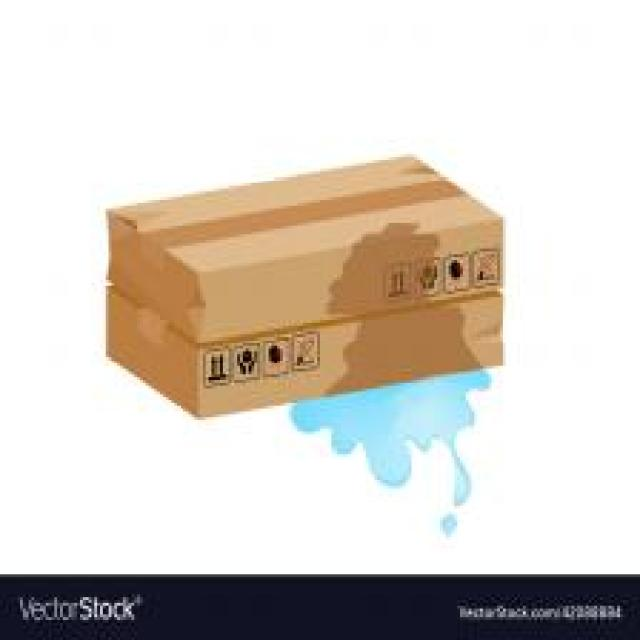box: (22, 87, 598, 544)
